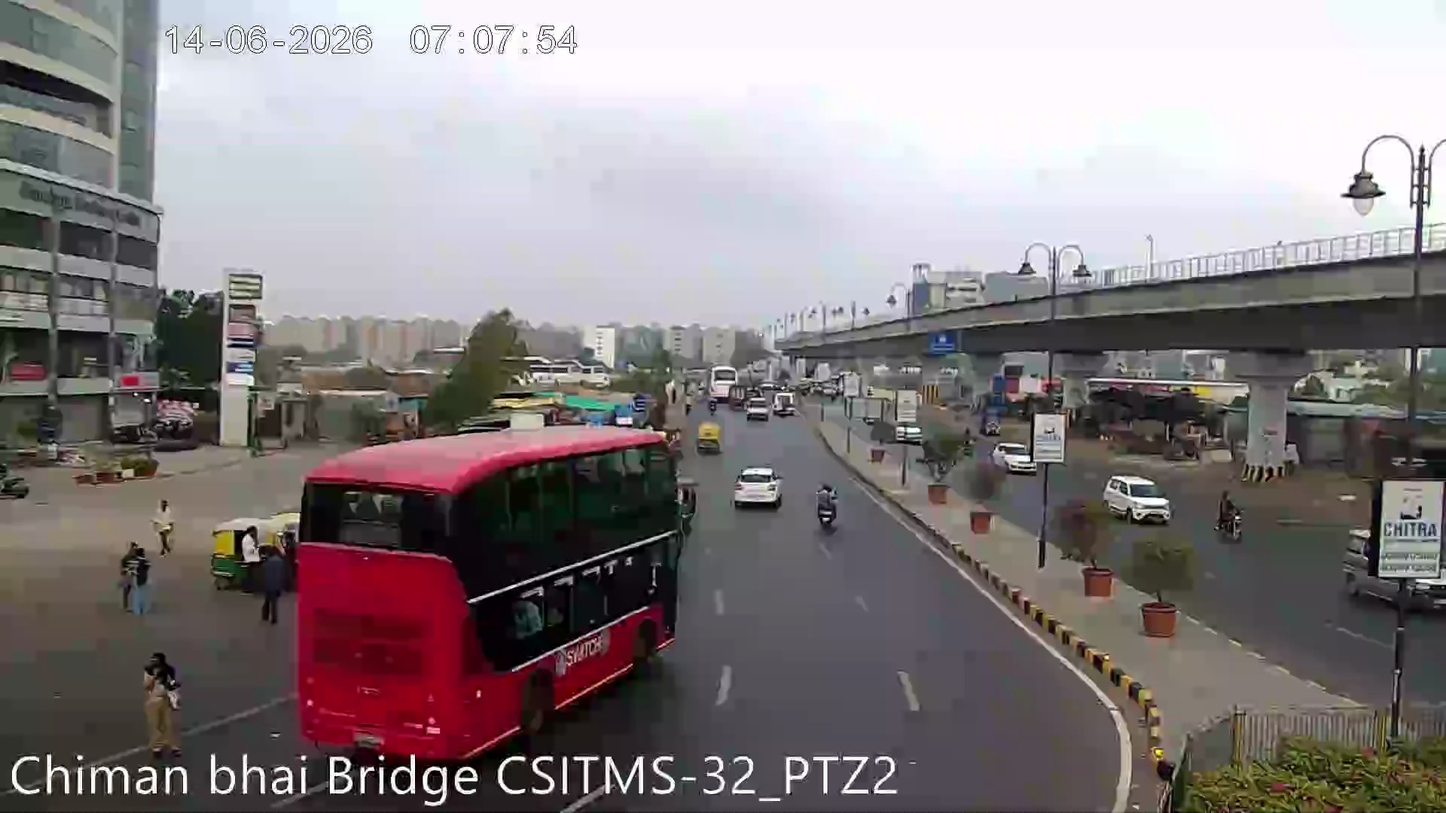auto_rickshaw: (206, 515, 266, 588), (695, 419, 725, 454)
bus: (277, 430, 708, 752)
car: (1100, 470, 1173, 524), (731, 460, 784, 510), (992, 438, 1037, 474)
pedestrian: (135, 643, 190, 769), (114, 534, 154, 621), (150, 490, 179, 558)
two_wheeler: (1212, 488, 1246, 544), (812, 479, 842, 537), (0, 451, 32, 501)
